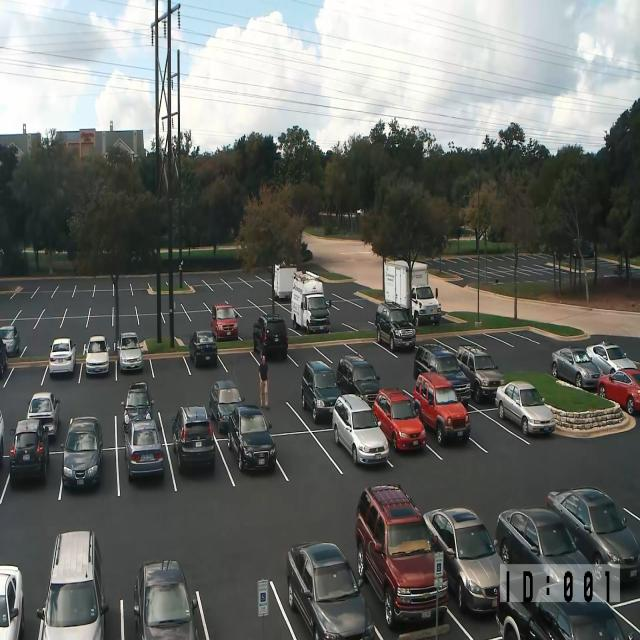car: (355, 483, 448, 629), (494, 506, 597, 604), (496, 573, 639, 639), (546, 486, 640, 585), (422, 506, 503, 616), (286, 540, 375, 640), (36, 530, 109, 639), (133, 559, 208, 639), (413, 371, 471, 446), (332, 393, 389, 466), (528, 600, 626, 639), (372, 388, 427, 452), (495, 381, 556, 436), (227, 404, 276, 472), (60, 416, 103, 490), (172, 405, 216, 473), (456, 344, 504, 402), (301, 359, 342, 424), (123, 417, 164, 480), (9, 418, 49, 482), (336, 354, 381, 408), (429, 351, 472, 406), (550, 346, 602, 390), (596, 368, 640, 416), (375, 301, 416, 351), (209, 379, 245, 434), (0, 564, 24, 639), (586, 340, 637, 375), (121, 381, 154, 433), (413, 341, 455, 381), (26, 391, 60, 440), (252, 314, 288, 360), (411, 284, 442, 326), (116, 331, 144, 372), (83, 335, 110, 376), (189, 330, 218, 368), (211, 301, 238, 341), (49, 337, 76, 375), (0, 324, 20, 356), (0, 338, 8, 378), (572, 244, 594, 258), (0, 409, 4, 467)
